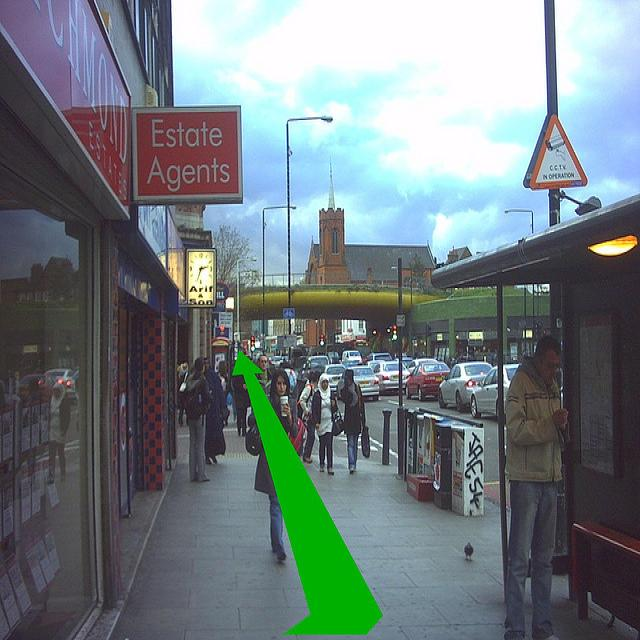Vehicle: (438, 359, 493, 412), (472, 365, 520, 419), (405, 360, 451, 403), (368, 361, 410, 397), (347, 365, 380, 403), (320, 364, 348, 393), (341, 350, 363, 366), (365, 352, 393, 362), (308, 354, 329, 366), (325, 352, 341, 363)
